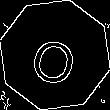O_N: (28, 25, 82, 85)
